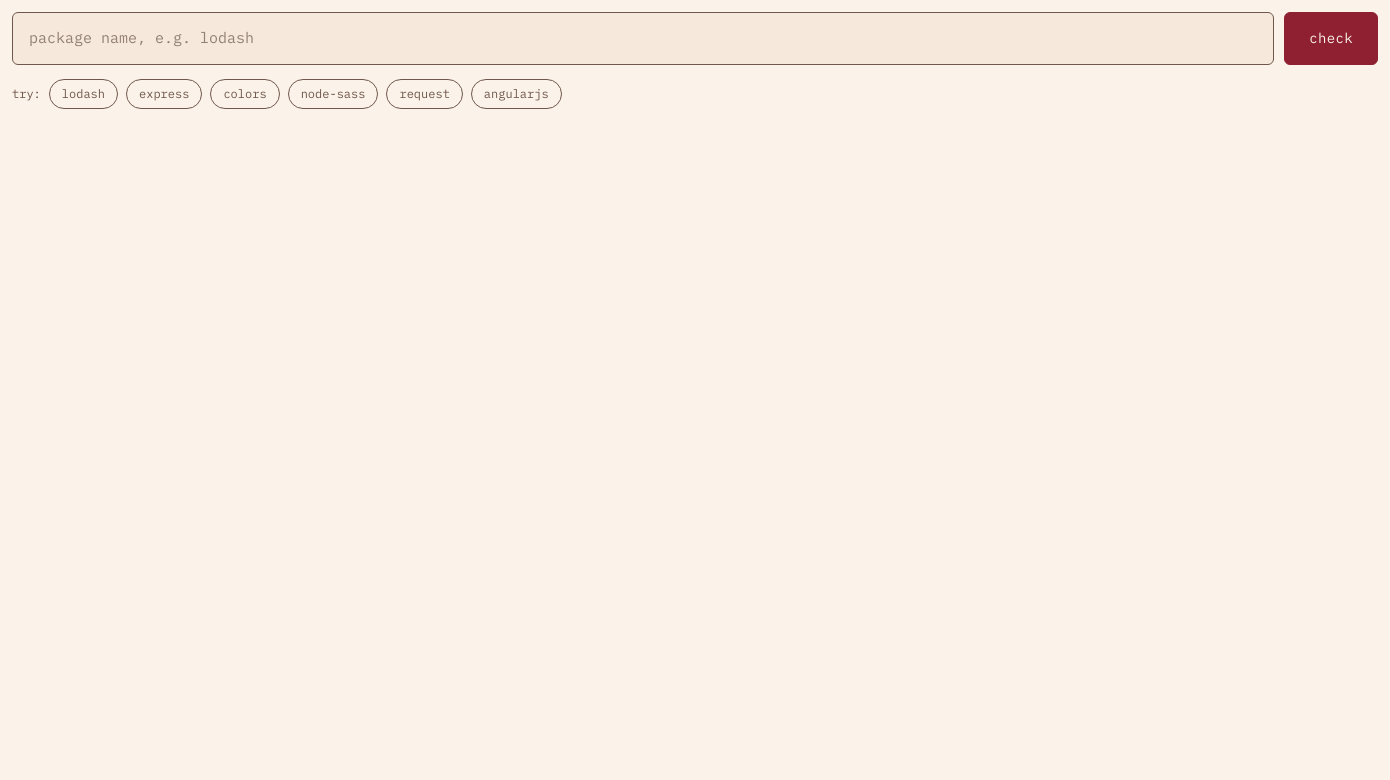
Test: searching › resets an active filter when a different package is searched
Type "examplepkg" into the field labelled "package name, e.g. lodash" at (643, 38), box left=12, top=12, right=1274, bottom=64
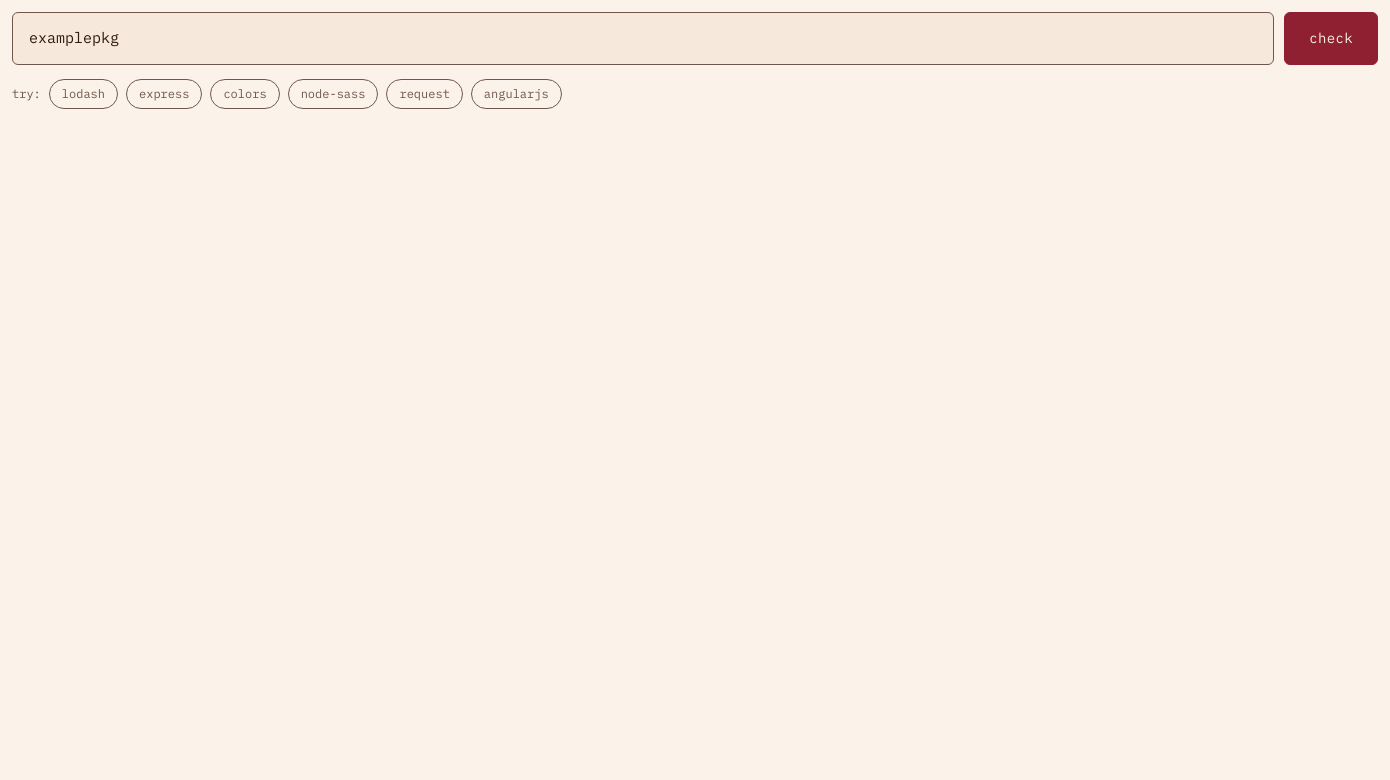
Click the button "check" at (1331, 38), box left=1284, top=12, right=1378, bottom=64
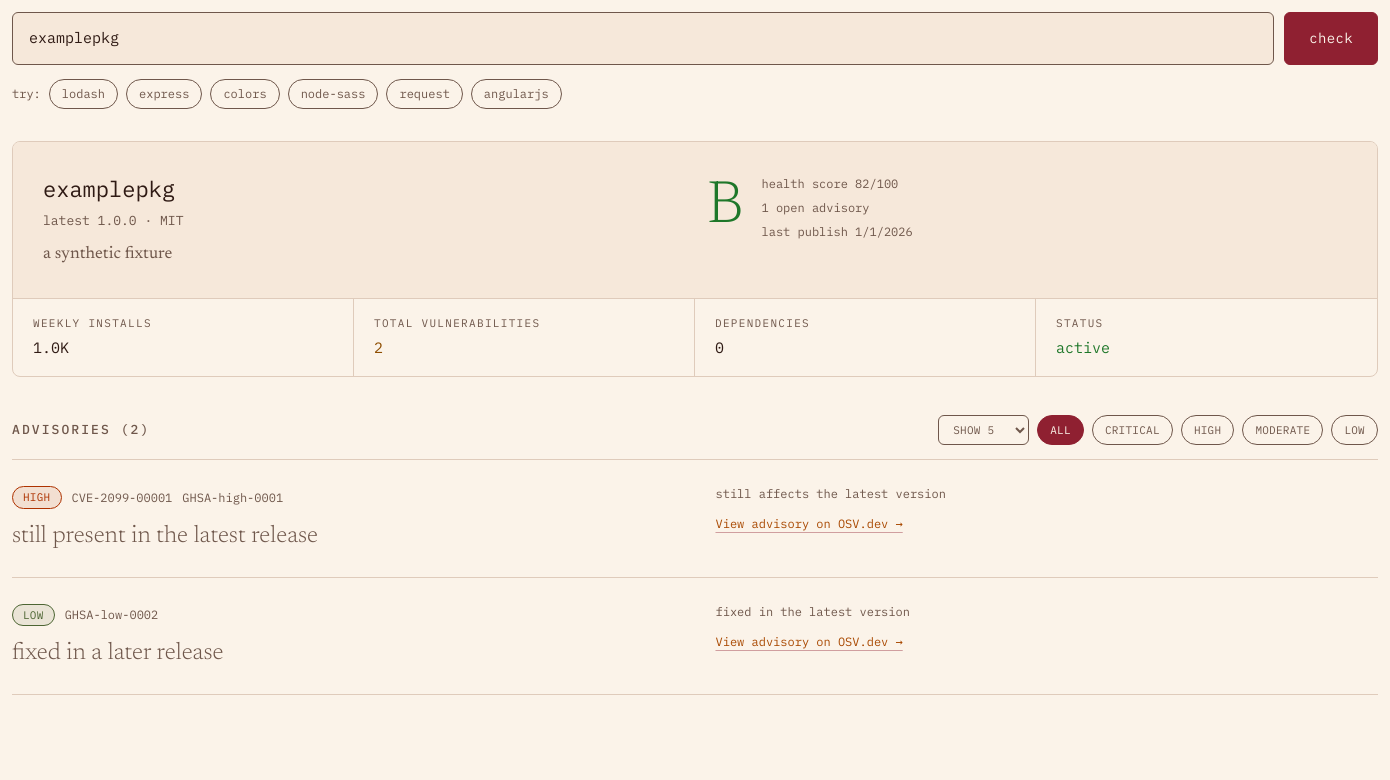
expect the text "GHSA-high-0001" is shown: met, box left=182, top=490, right=283, bottom=506
Click the button "high" at (1208, 430), box left=1181, top=415, right=1234, bottom=445
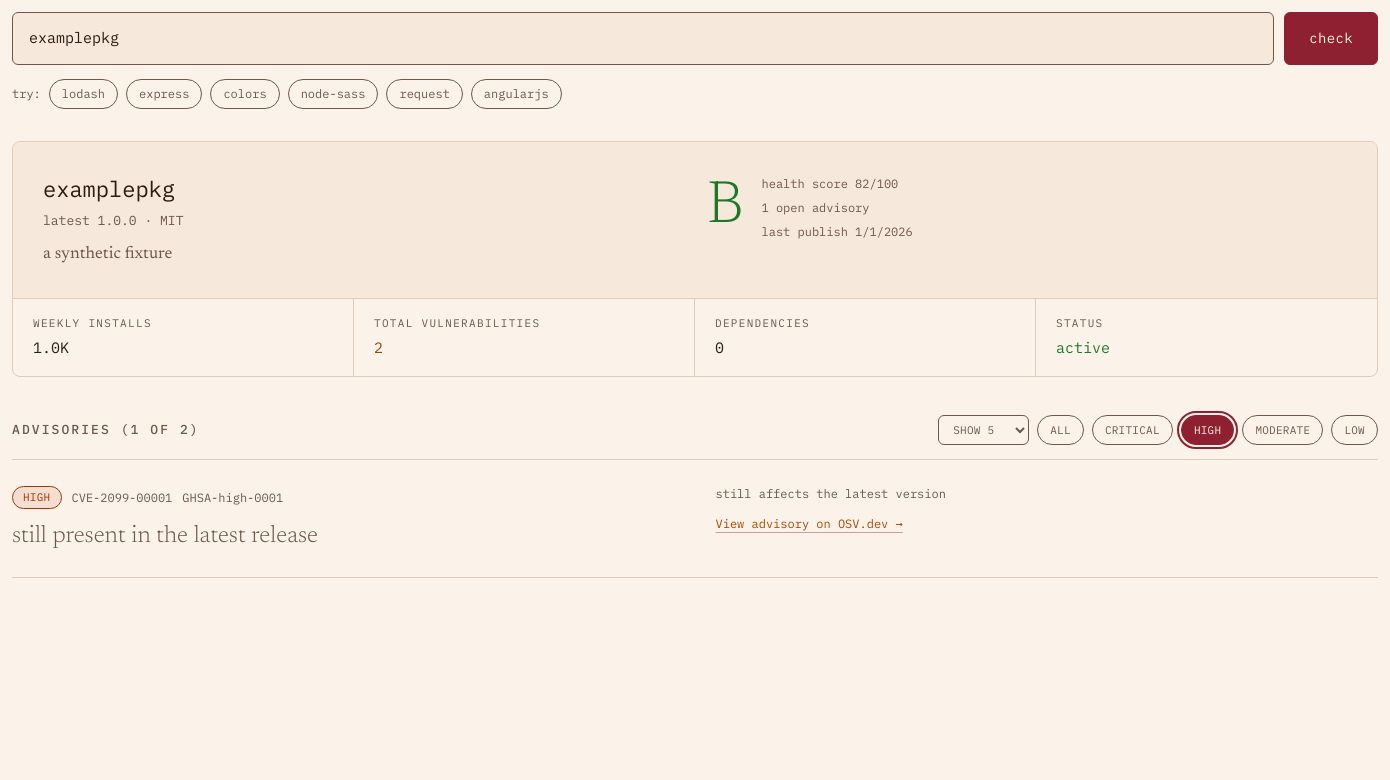
expect the text "GHSA-low-0002" is gone: met
Replace the text in the field named "package name" with "otherpkg" at (643, 38), box left=12, top=12, right=1274, bottom=64
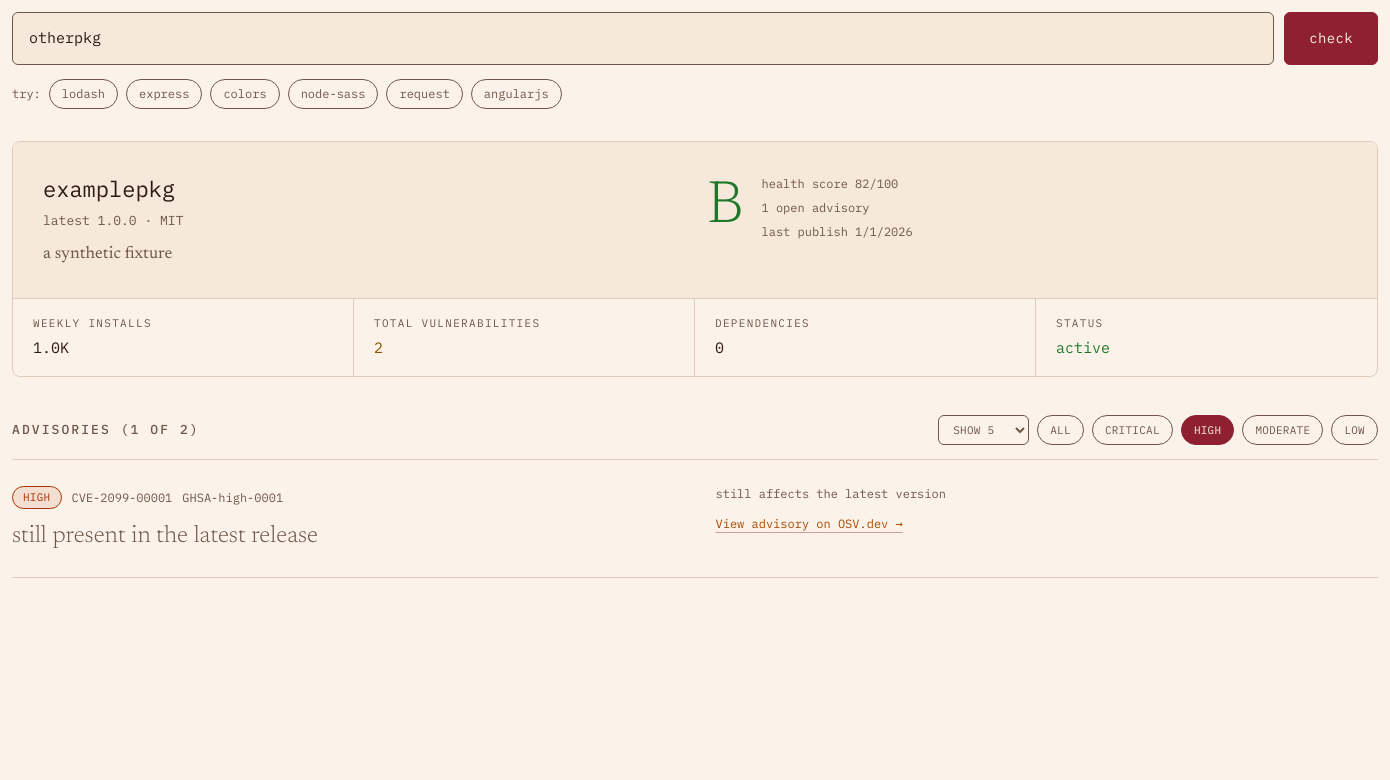
Click the button "check" at (1331, 38), box left=1284, top=12, right=1378, bottom=64
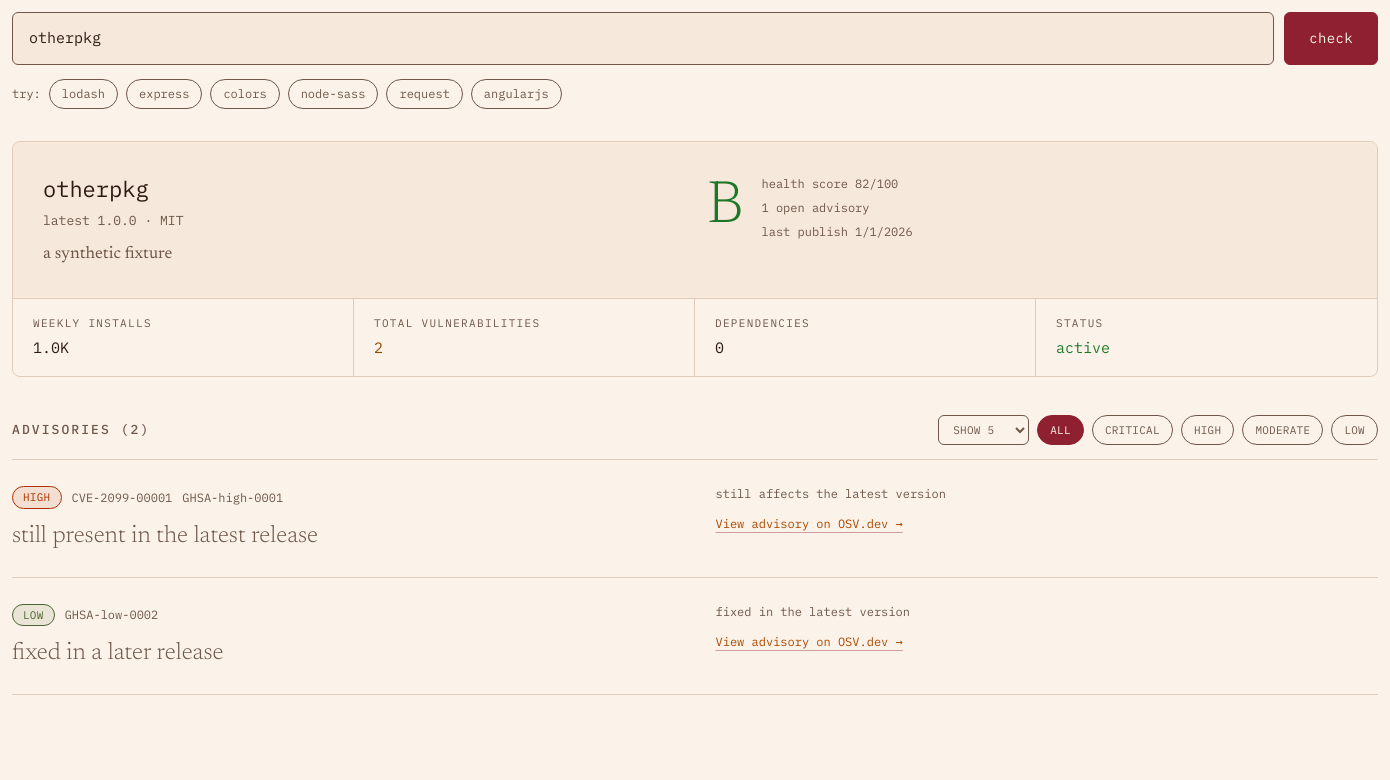
expect the text "GHSA-low-0002" is shown: met, box left=65, top=607, right=158, bottom=623
